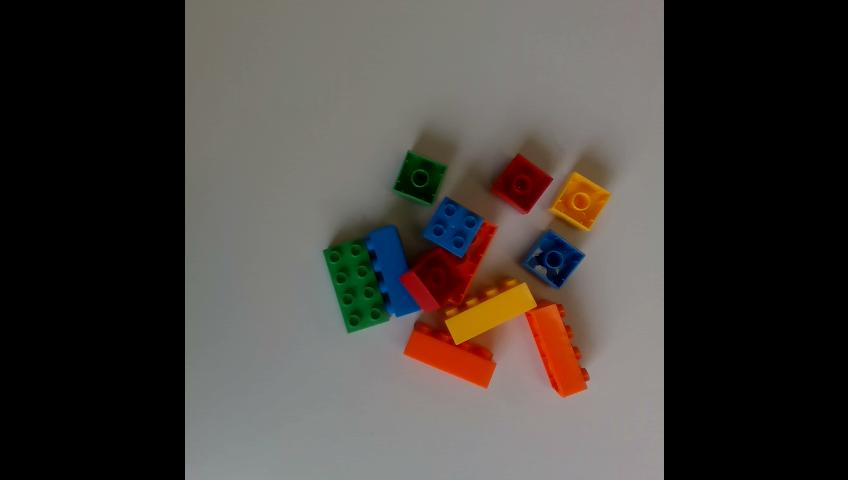2x2_blue: (518, 227, 583, 289), (421, 197, 484, 258)
2x2_green: (391, 149, 447, 209)
2x2_red: (400, 247, 462, 313), (490, 153, 553, 214)
2x2_yellow: (546, 171, 610, 232)
4x2_blue: (365, 225, 421, 318)
4x2_green: (321, 238, 388, 335)
4x2_orange: (524, 295, 589, 398), (402, 321, 495, 388), (445, 223, 496, 305)
4x2_yellow: (444, 276, 535, 347)
